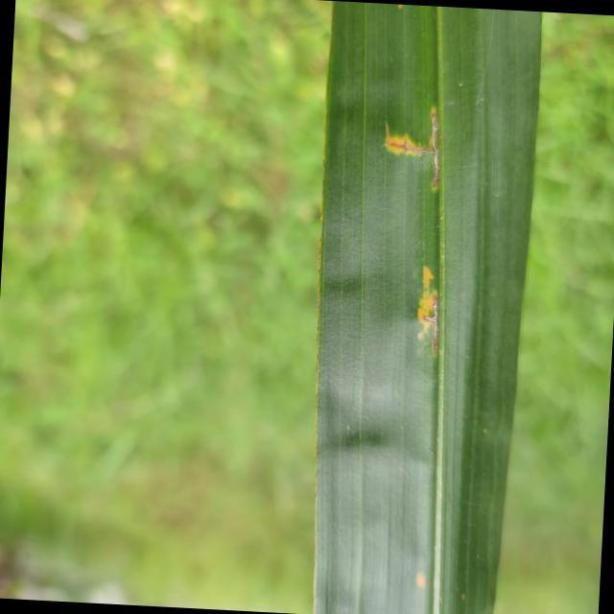Boron: (315, 0, 544, 614)
